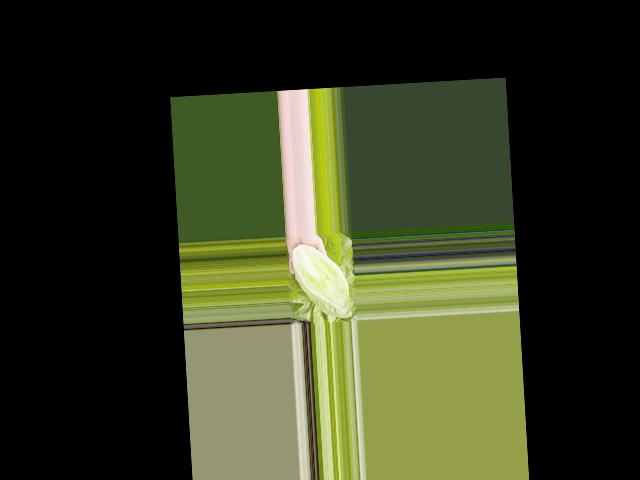lettuce: (288, 240, 352, 321)
